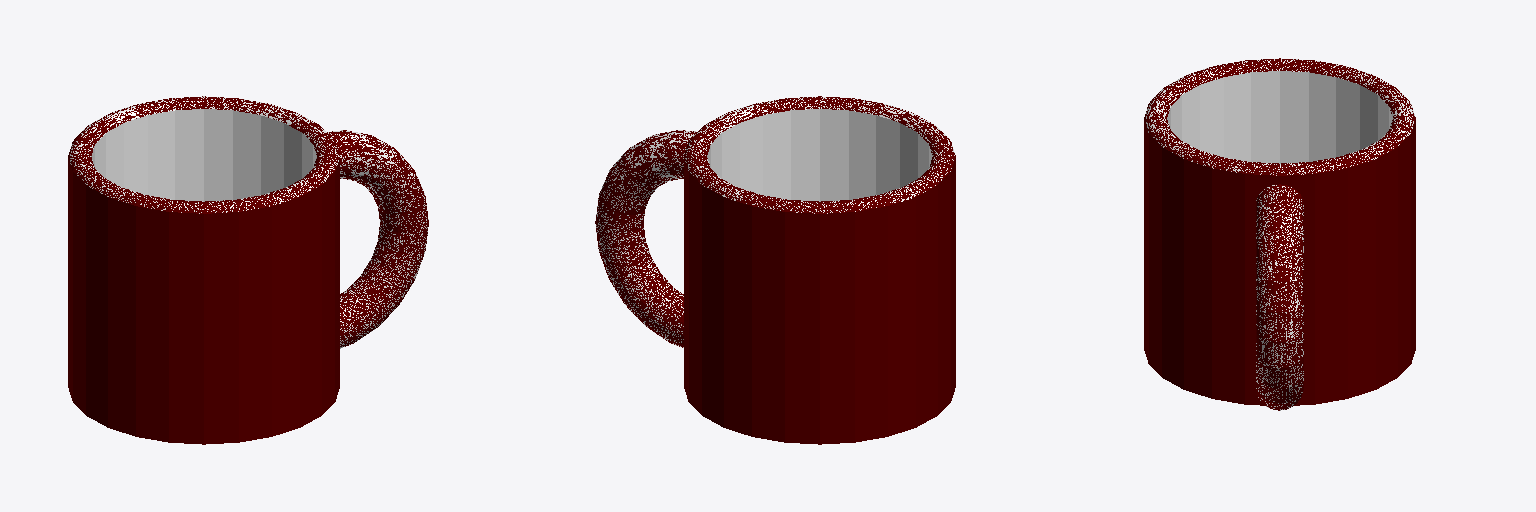
The picture shows the model from 3 angles: view 1: azimuth 30°, elevation 25°; view 2: azimuth 150°, elevation 25°; view 3: azimuth 270°, elevation 25°; orthographic projection.
Visible parts, largest first — view 1: SketchUp_ID3.010, SketchUp.001_ID11.003, SketchUp.002_ID19.007, SketchUp.004_ID31.005; view 2: SketchUp_ID3.010, SketchUp.001_ID11.003, SketchUp.002_ID19.007, SketchUp.004_ID31.005; view 3: SketchUp_ID3.010, SketchUp.001_ID11.003, SketchUp.002_ID19.007, SketchUp.004_ID31.005.
Part boxes in pixels (bbox=[...]): SketchUp_ID3.010: bbox=[68, 158, 339, 444]; SketchUp.001_ID11.003: bbox=[91, 109, 316, 201]; SketchUp.002_ID19.007: bbox=[327, 130, 428, 348]; SketchUp.004_ID31.005: bbox=[68, 96, 339, 213]; SketchUp_ID3.010: bbox=[684, 158, 955, 444]; SketchUp.001_ID11.003: bbox=[707, 109, 932, 201]; SketchUp.002_ID19.007: bbox=[595, 130, 696, 347]; SketchUp.004_ID31.005: bbox=[684, 96, 955, 213]; SketchUp_ID3.010: bbox=[1144, 120, 1415, 405]; SketchUp.001_ID11.003: bbox=[1167, 71, 1392, 163]; SketchUp.002_ID19.007: bbox=[1256, 184, 1303, 410]; SketchUp.004_ID31.005: bbox=[1144, 58, 1415, 175].
Bounding box in the file's own units: 0.2673 × 0.1784 × 0.1855.